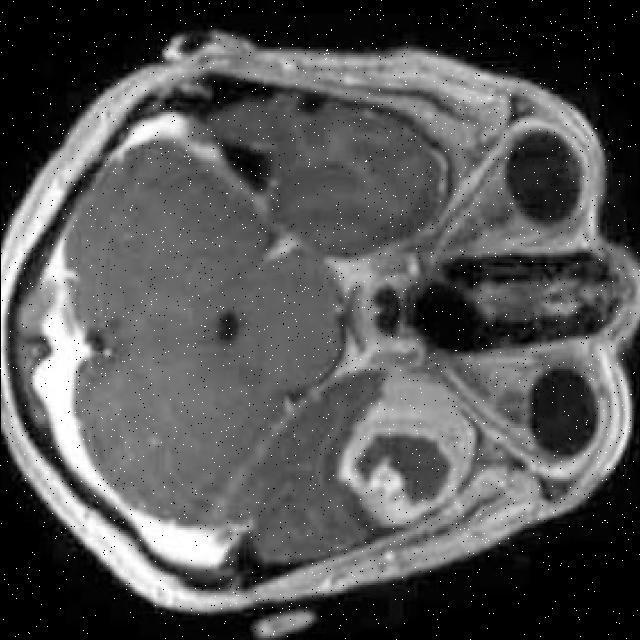Meningioma: (341, 373, 475, 520)
